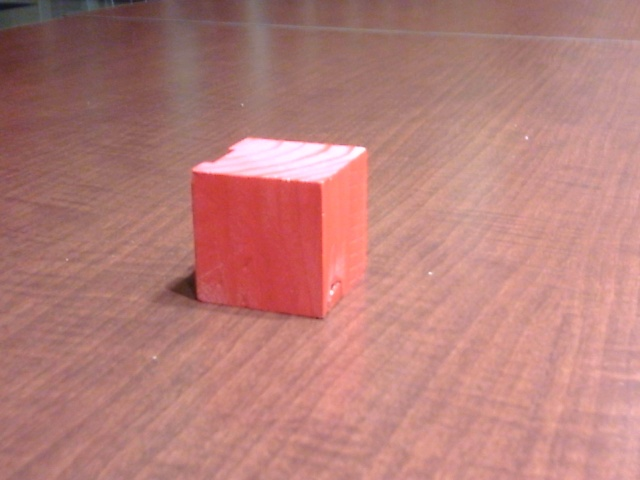RedBlock: (190, 169, 374, 318)
